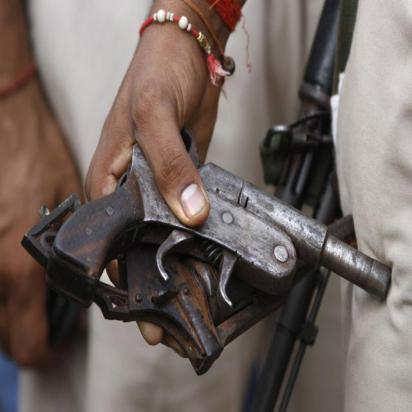Gun: (15, 76, 396, 382)
